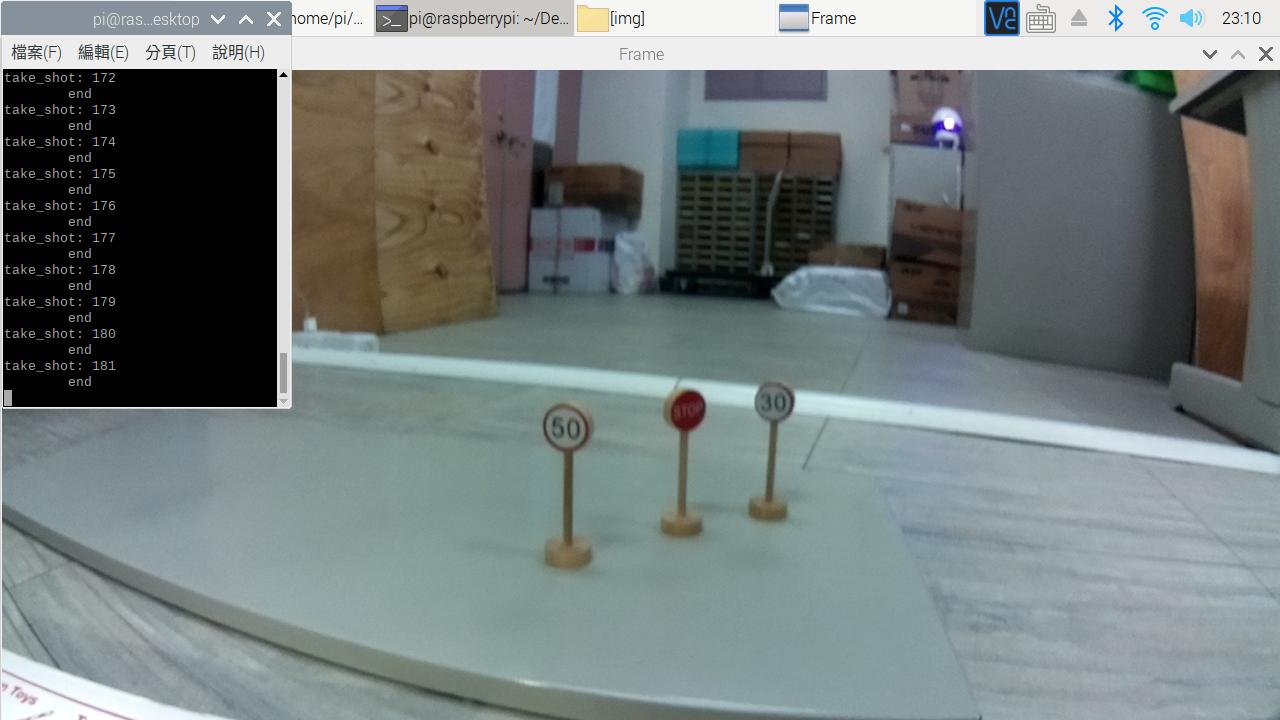Speed30: (748, 375, 809, 430)
Speed50: (538, 403, 599, 459)
Stop: (661, 381, 714, 443)
